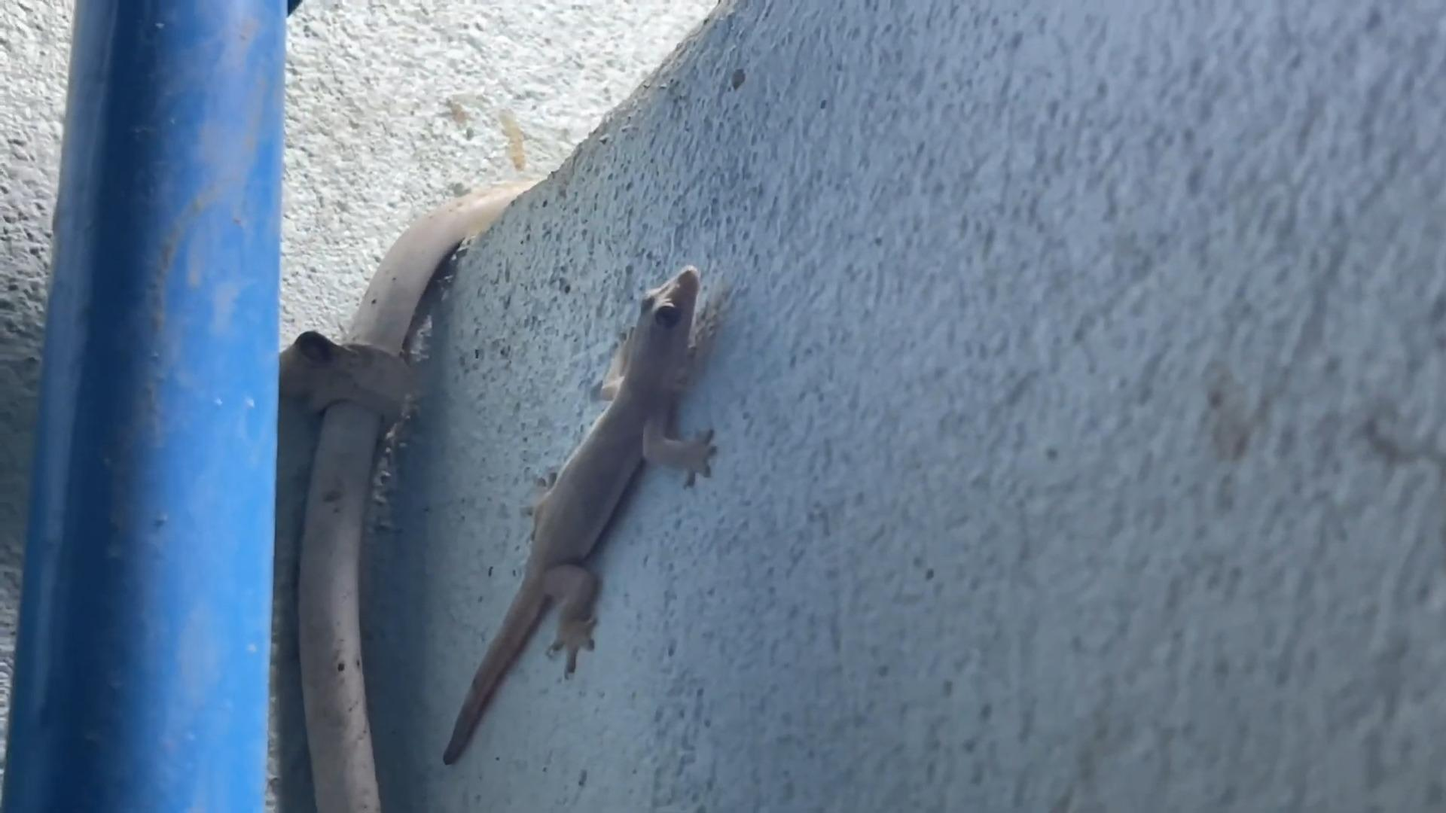lizard: (516, 262, 728, 687)
